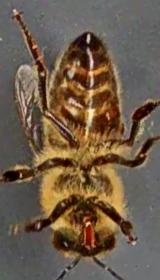varroa_mite: (90, 100, 121, 130)
